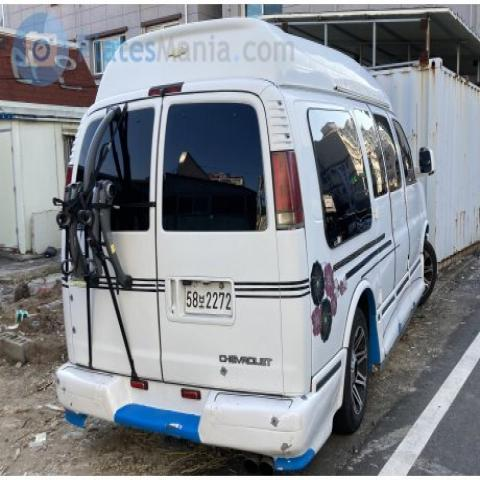LP: (176, 276, 244, 325)
